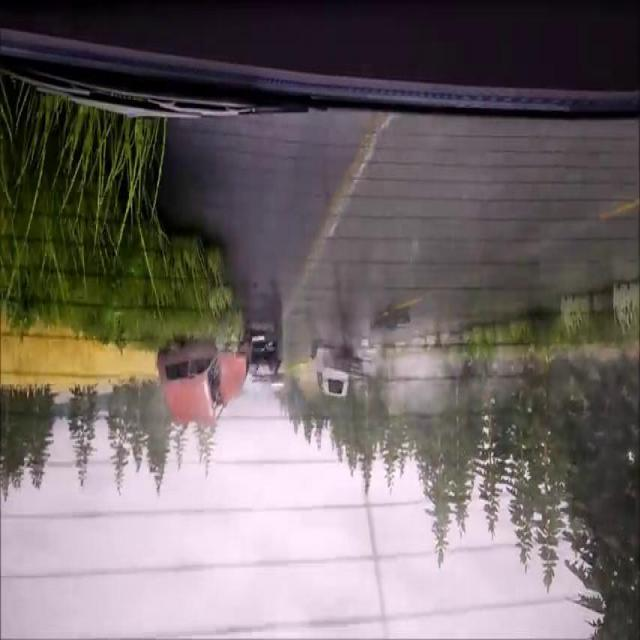severe: (156, 312, 286, 432)
